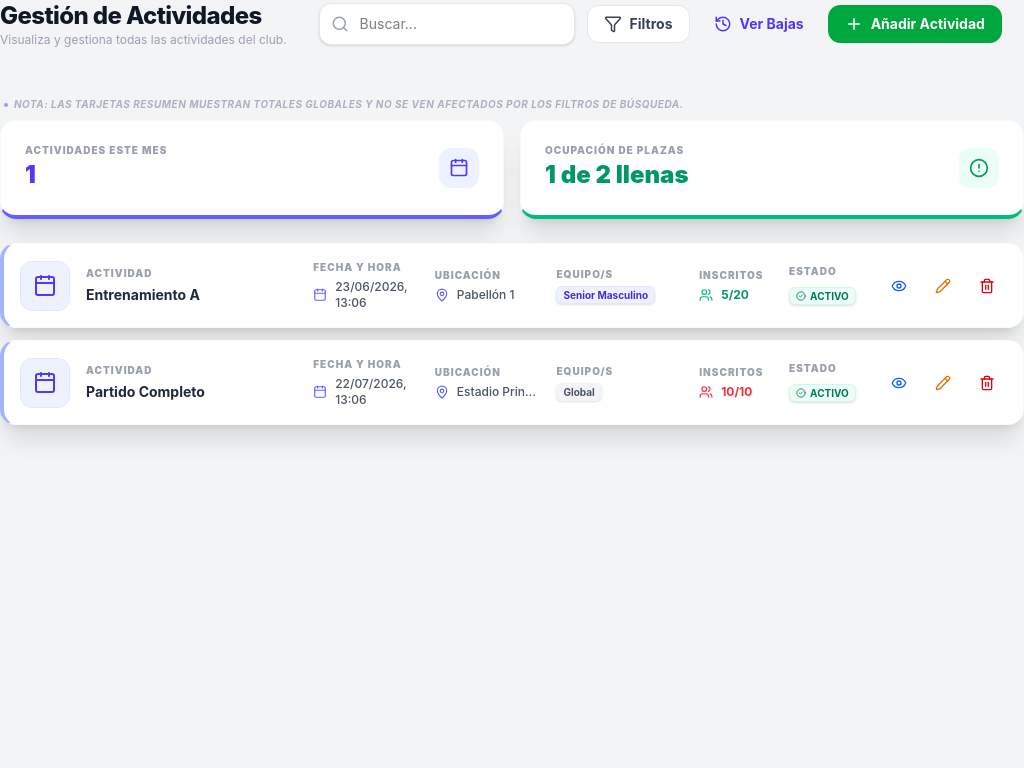
Test: ActivityPage › debe ejecutar el flujo de borrado con éxito
What coordinates should you click on to do the following:
click the button named "eliminar" in the row of "Senior Masculino"
I would click on:
 (987, 286)
Its box is [967, 272, 1007, 300].
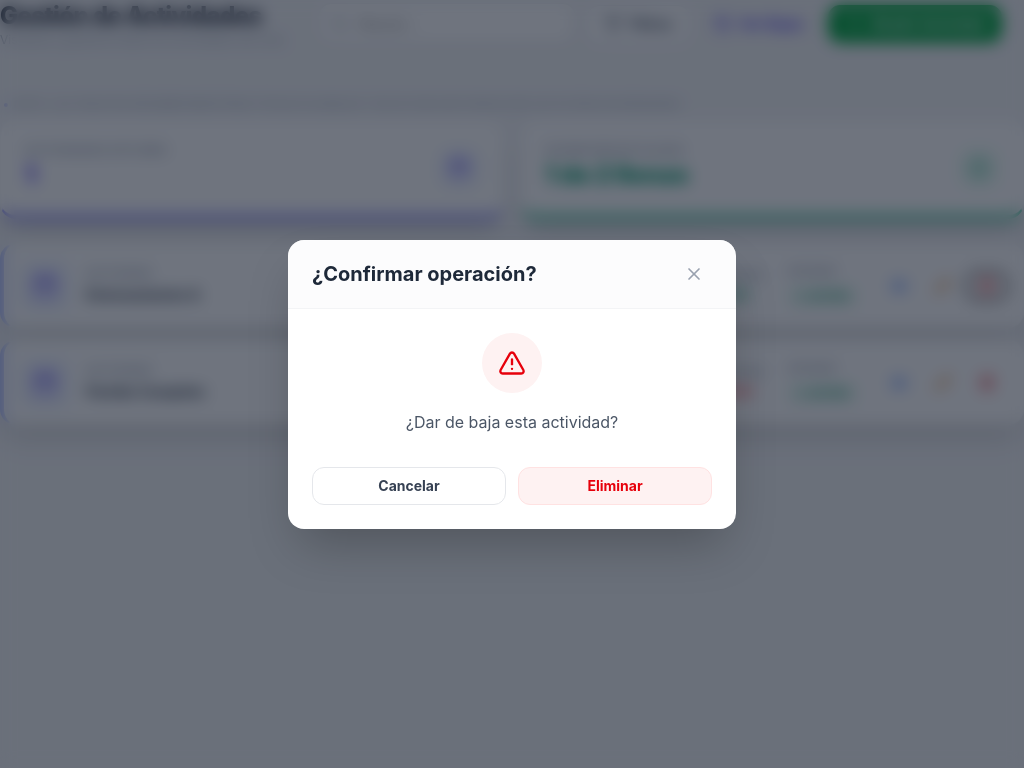
What coordinates should you click on to do the following:
click the button "Eliminar"
I would click on:
 (615, 486)
Its box is [518, 466, 712, 504].
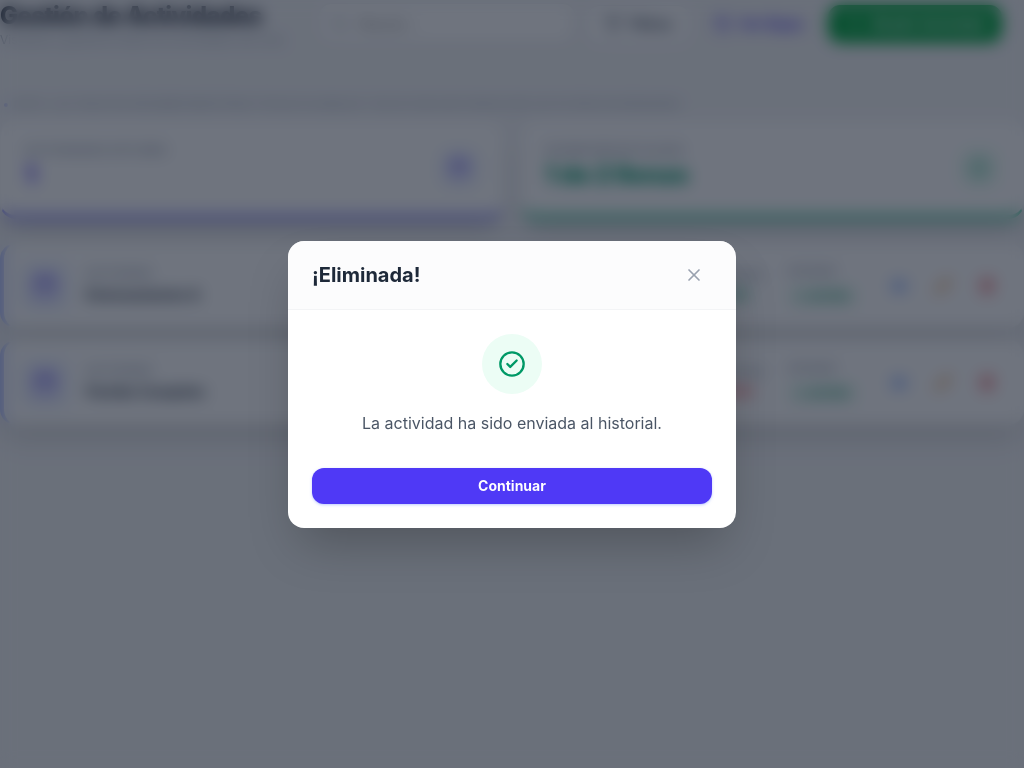
Check: the text "La actividad ha sido enviada al historial." is shown, box [362, 410, 662, 436]
